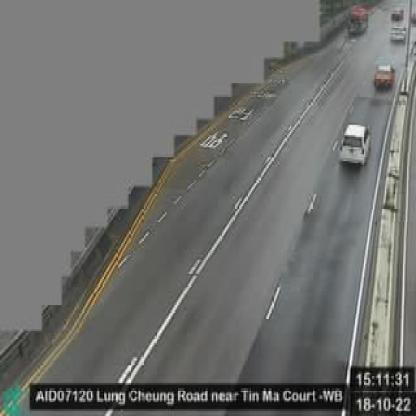Car: (338, 122, 372, 167), (374, 63, 396, 92), (390, 24, 408, 45), (391, 6, 406, 21)
Minibus: (348, 6, 369, 37)
